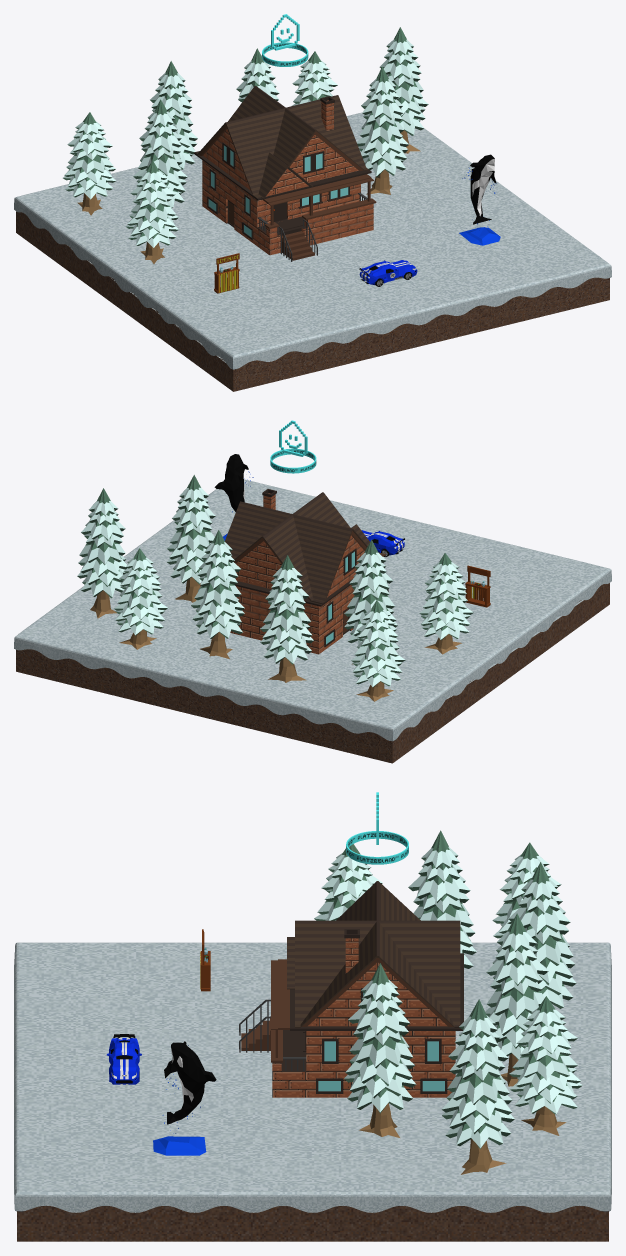
3 renders of one model, top to bottom at view 1: azimuth 30°, elevation 25°; view 2: azimuth 150°, elevation 25°; view 3: azimuth 270°, elevation 25°, orthographic. The views are drawn at different scales.
Parts seen in each view (by area): view 1: Cube.003, Cube.469, ANIMAL_ORCA, VEHICLES_RACING_CAR, TYPE_PREMIUM, OBJRANDOM_LEMONADE_STAND; view 2: Cube.003, Cube.469, ANIMAL_ORCA, TYPE_PREMIUM, OBJRANDOM_LEMONADE_STAND, VEHICLES_RACING_CAR; view 3: Cube.003, Cube.469, ANIMAL_ORCA, VEHICLES_RACING_CAR, TYPE_PREMIUM.
Boxes of the visible parts, left/top/right/bottom form: Cube.003: left=14, top=27, right=611, bottom=391; Cube.469: left=194, top=85, right=376, bottom=261; ANIMAL_ORCA: left=459, top=154, right=500, bottom=245; VEHICLES_RACING_CAR: left=359, top=260, right=417, bottom=286; TYPE_PREMIUM: left=262, top=14, right=308, bottom=66; OBJRANDOM_LEMONADE_STAND: left=214, top=253, right=239, bottom=293; Cube.003: left=14, top=475, right=611, bottom=763; Cube.469: left=225, top=489, right=388, bottom=654; ANIMAL_ORCA: left=214, top=454, right=253, bottom=540; TYPE_PREMIUM: left=270, top=420, right=316, bottom=473; OBJRANDOM_LEMONADE_STAND: left=465, top=565, right=490, bottom=607; VEHICLES_RACING_CAR: left=361, top=530, right=404, bottom=556; Cube.003: left=14, top=830, right=611, bottom=1241; Cube.469: left=239, top=881, right=463, bottom=1097; ANIMAL_ORCA: left=153, top=1041, right=216, bottom=1155; VEHICLES_RACING_CAR: left=106, top=1034, right=141, bottom=1084; TYPE_PREMIUM: left=346, top=792, right=408, bottom=864.
Size of the model in its own units: 4040 by 2445 by 4040.
Materials: 37 (5 with a texture image).
